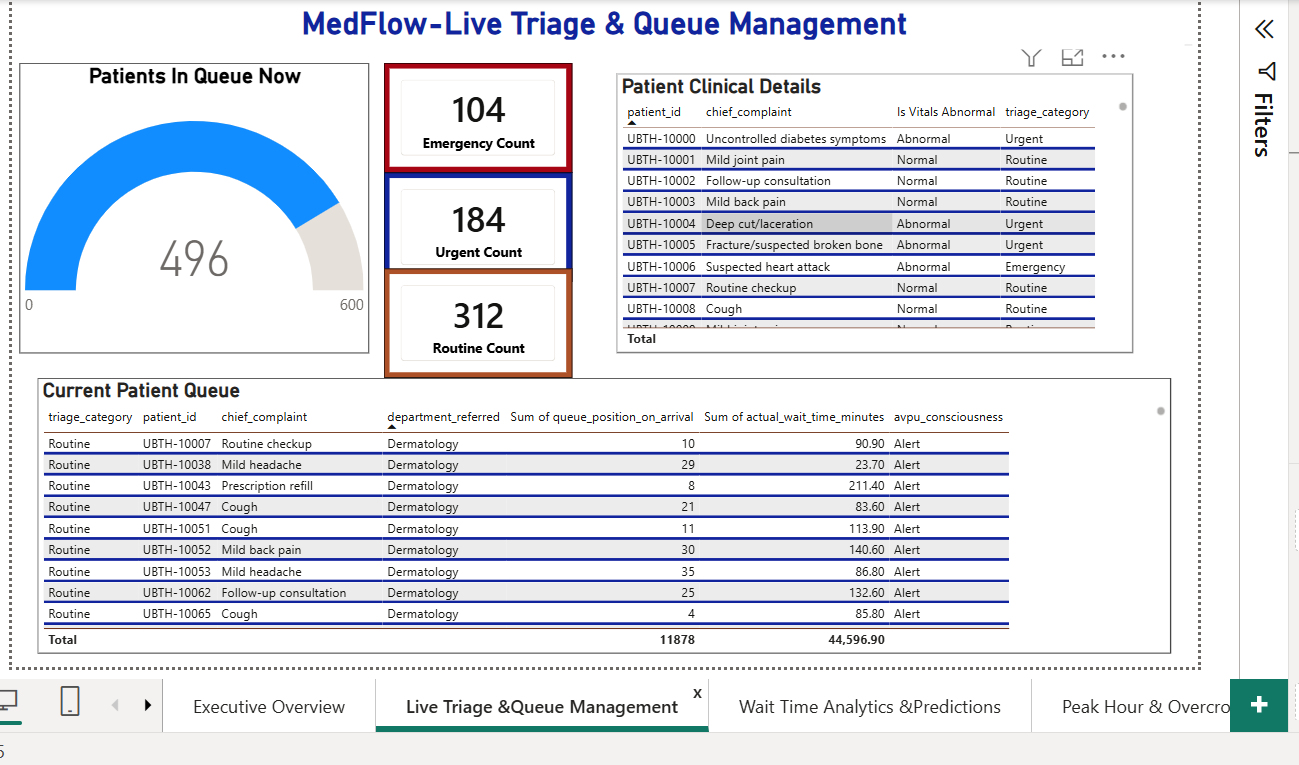

This screenshot's page, from the dashboard's own definition file:
{"tool":"powerbi","page":{"name":"Live Triage &Queue Management","canvas":[1280,720],"ordinal":1},"visuals":[{"type":"tableEx","title":"Current Patient Queue","fields":{"Values":["Patients.triage_category","Patients.patient_id","Patients.chief_complaint","Patients.department_referred","Sum(Patients.queue_position_on_arrival)","Sum(Patients.actual_wait_time_minutes)","Patients.avpu_consciousness"]},"box":[27.8,408.3,1223.4,297.1],"z":0},{"type":"cardVisual","fields":{"Data":["Patients.Emergency Count 2"]},"box":[401,67.3,203.4,118.5],"z":1000},{"type":"cardVisual","fields":{"Data":["Patients.Urgent Count"]},"box":[401,185.9,203.4,118],"z":2000},{"type":"cardVisual","fields":{"Data":["Patients.Routine Count"]},"box":[401,289.8,203.4,118],"z":3000},{"type":"gauge","title":"Patients In Queue Now ","fields":{"Y":["Patients.Patients In Queue Now"],"MaxValue":["Patients.Total Patients"]},"box":[7.3,67.3,377.6,313.2],"z":4000},{"type":"tableEx","title":"Patient Clinical Details","fields":{"Values":["Patients.patient_id","Patients.chief_complaint","Patients.Is Vitals Abnormal","Patients.triage_category"]},"box":[652.7,79,557.6,301.5],"z":5000},{"type":"textbox","title":"MedFlow-Live Triage & Queue Management","box":[0,4.4,1279,48.3],"z":8000}]}

Visuals, with their boxes on the page's 1280x720 design canvas (x1, y1, x2, y2). These are canvas units, not pixel positions in the 1299x765 screenshot, which may show the page scaled, cropped or inside an application window:
"Current Patient Queue" tableEx: [28,408,1251,705]
cardVisual - Patients.Emergency Count 2: [401,67,604,186]
cardVisual - Patients.Urgent Count: [401,186,604,304]
cardVisual - Patients.Routine Count: [401,290,604,408]
"Patients In Queue Now " gauge: [7,67,385,380]
"Patient Clinical Details" tableEx: [653,79,1210,380]
"MedFlow-Live Triage & Queue Management" textbox: [0,4,1279,53]
